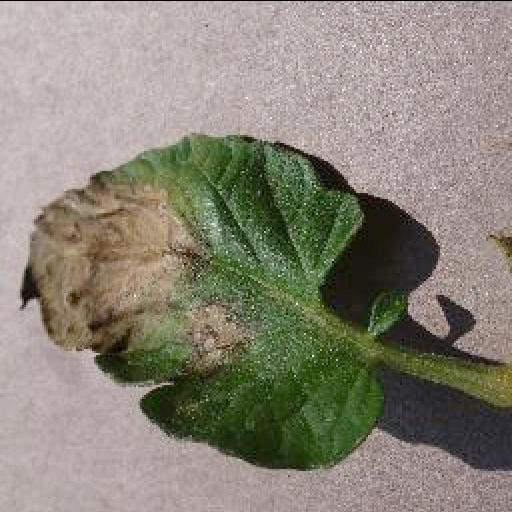disease_tomato: (18, 134, 384, 470)
